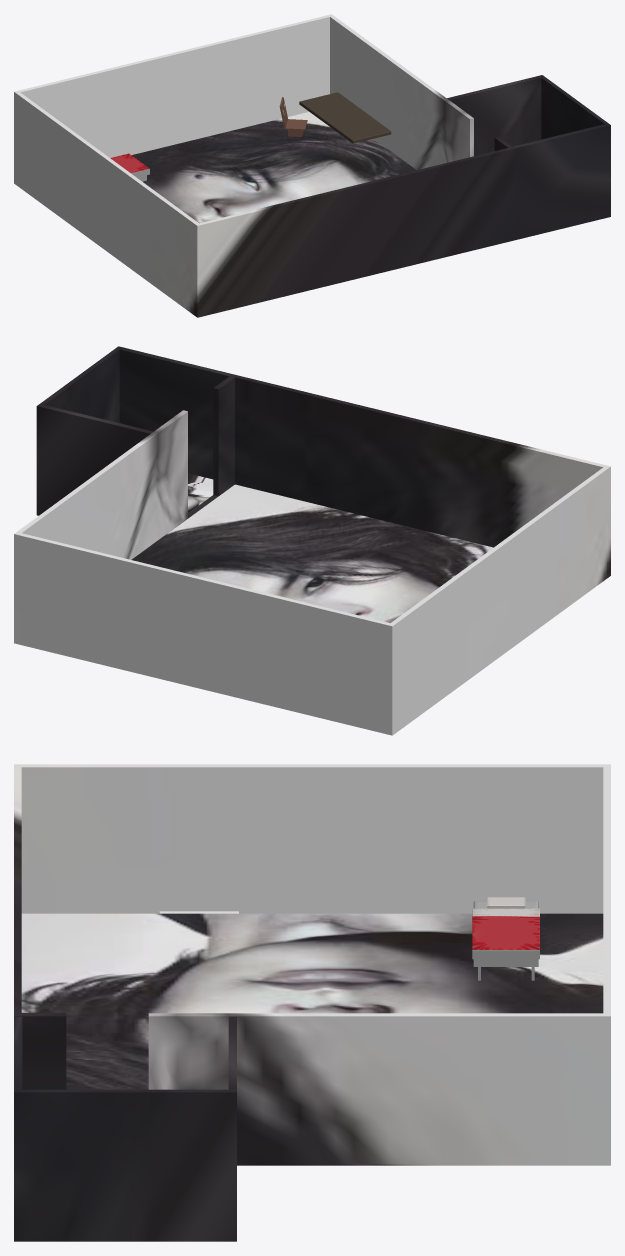
Rendered from InteriorMap.fbx.
3 renders of one model, top to bottom at view 1: azimuth 30°, elevation 25°; view 2: azimuth 150°, elevation 25°; view 3: azimuth 270°, elevation 25°, orthographic. The views are drawn at different scales.
Parts seen in each view (by area): view 1: base, desk, bed, chair; view 2: base; view 3: base, bed.
Part boxes in pixels (bbox=[...]): base: bbox=[14, 14, 610, 317]; desk: bbox=[299, 92, 391, 143]; bed: bbox=[110, 153, 149, 181]; chair: bbox=[279, 97, 307, 136]; base: bbox=[14, 346, 610, 735]; base: bbox=[14, 764, 610, 1241]; bed: bbox=[472, 897, 539, 980].
Size of the model in its own units: 14.85 by 3.15 by 11.41.
4 materials, 3 textured.
